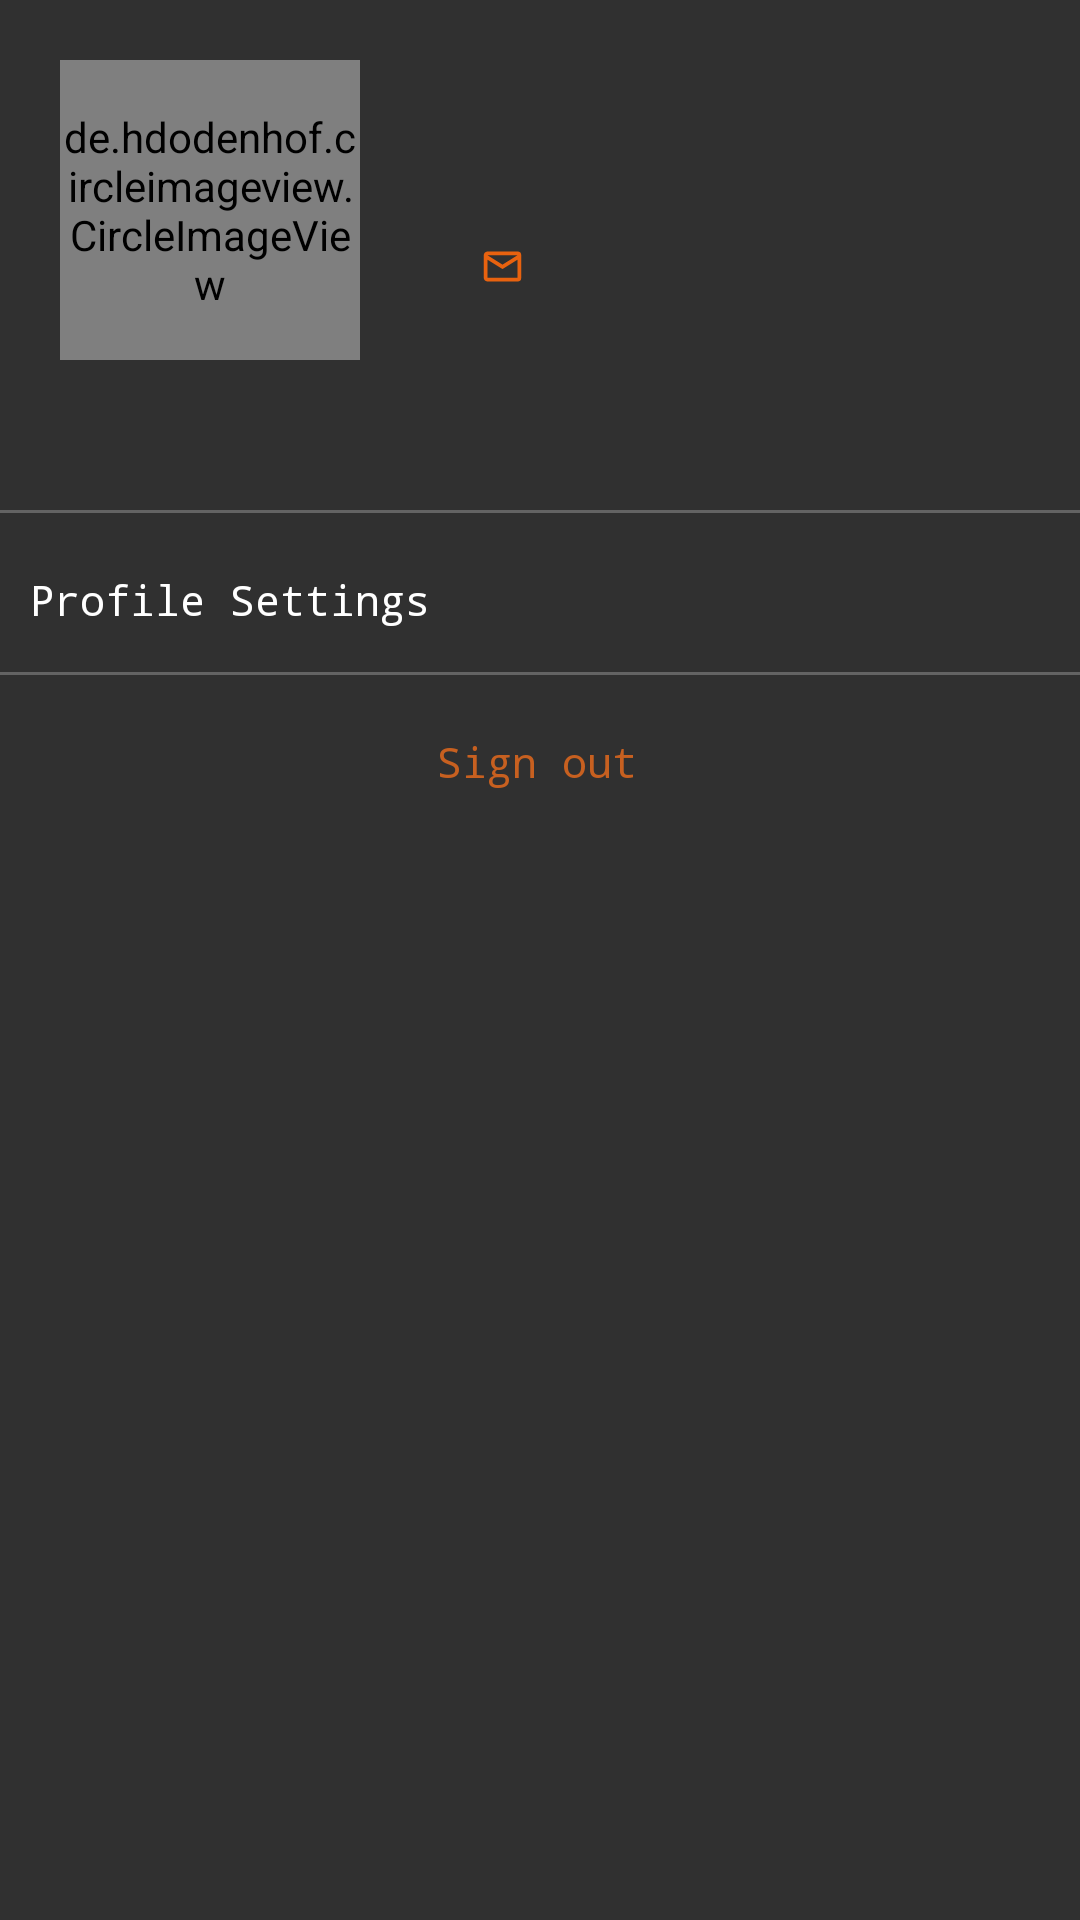

Icon click points for this 1080px×1920px phone screenshot, format (x,y):
email: (502,266)
